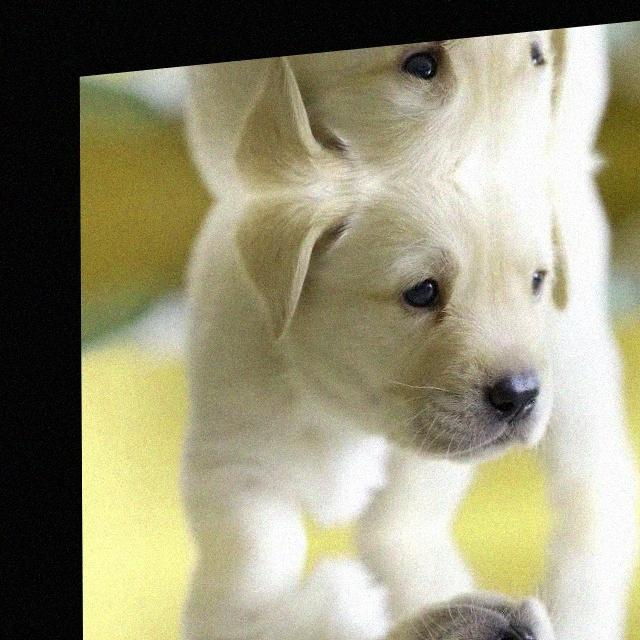dog: (251, 160, 618, 480), (250, 23, 616, 197), (254, 583, 618, 640)
